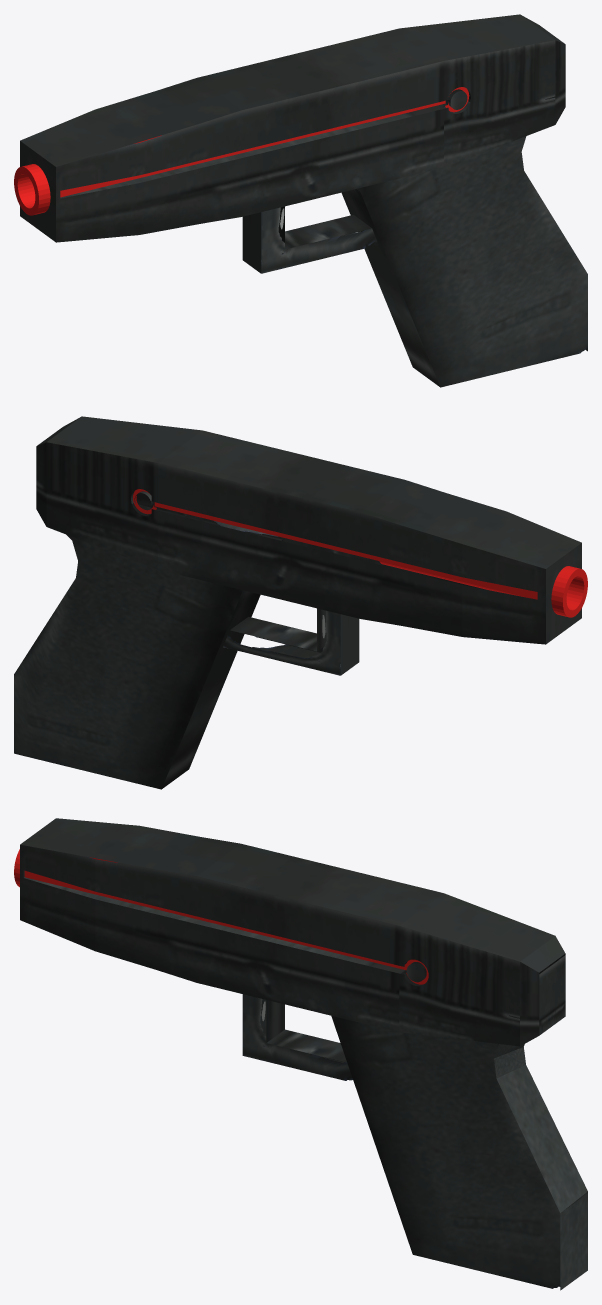
Rendered from zappy.fbx.
3 renders of one model, top to bottom at view 1: azimuth 30°, elevation 25°; view 2: azimuth 150°, elevation 25°; view 3: azimuth 330°, elevation 25°, orthographic.
Parts seen in each view (by area): view 1: gun; view 2: gun; view 3: gun.
Boxes of the visible parts, x1,y1,x2,y2 form: gun: (14, 14, 587, 387); gun: (14, 416, 587, 789); gun: (14, 818, 587, 1290).
Size of the model in its own units: 422 by 246 by 59.41.
2 materials, 1 textured.
